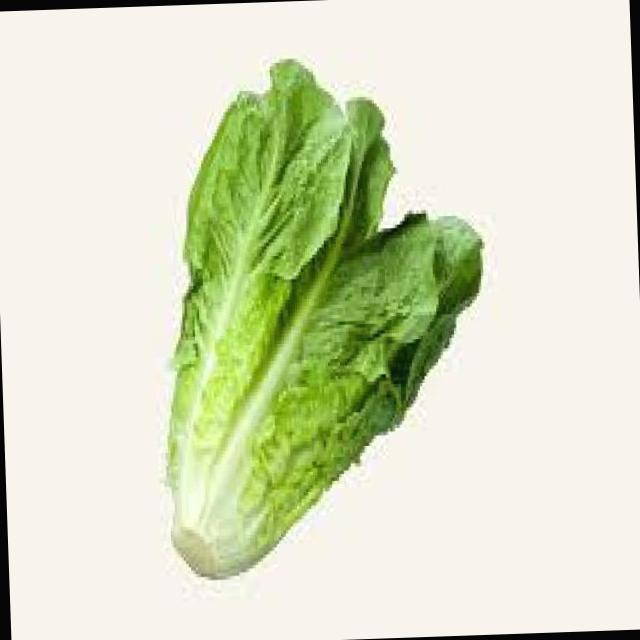Lettuce-Ready-to-Harvest: (168, 60, 480, 577)
